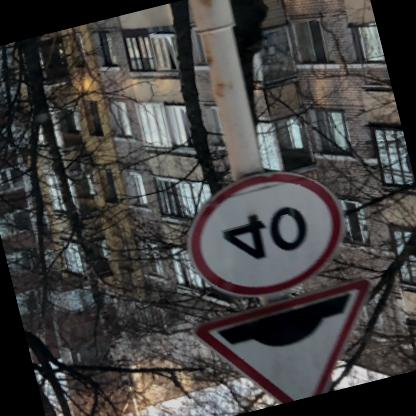speedlimit: (172, 156, 357, 312)
